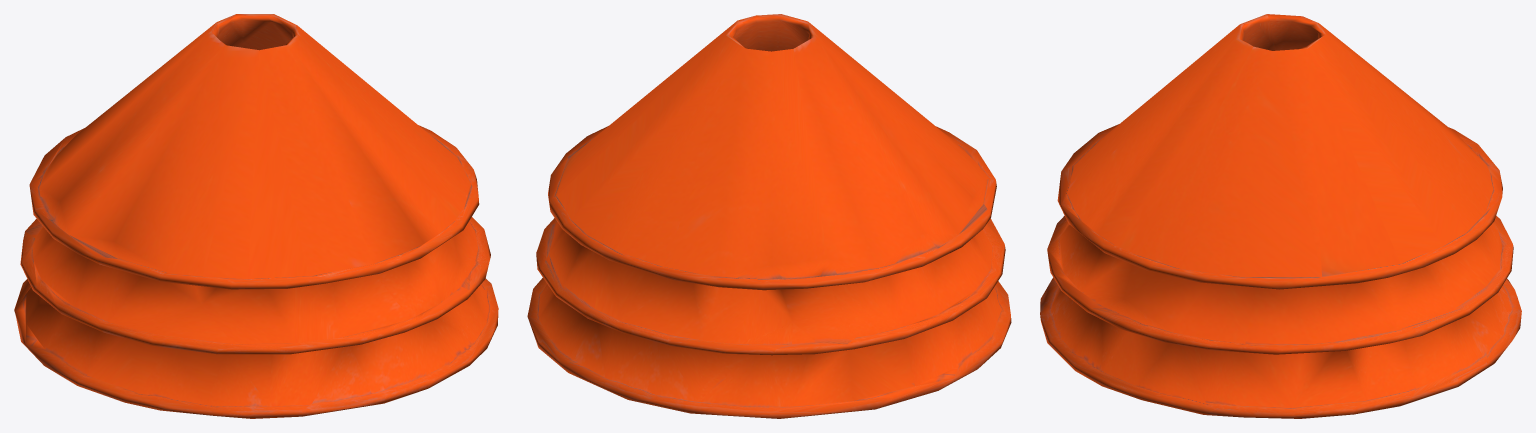
File: cones_lod1.glb
The picture shows the model from 3 angles, left to right: view 1: azimuth 30°, elevation 25°; view 2: azimuth 150°, elevation 25°; view 3: azimuth 270°, elevation 25°; orthographic projection.
Visible parts, largest first — view 1: cones_lod1; view 2: cones_lod1; view 3: cones_lod1.
Part boxes in pixels (x1=…): cones_lod1: x1=14, y1=14, x2=498, y2=418; cones_lod1: x1=527, y1=14, x2=1011, y2=418; cones_lod1: x1=1040, y1=14, x2=1521, y2=418.
Bounding box in the file's own units: 0.2303 × 0.1502 × 0.2294.
Materials: 1 (1 with a texture image).
